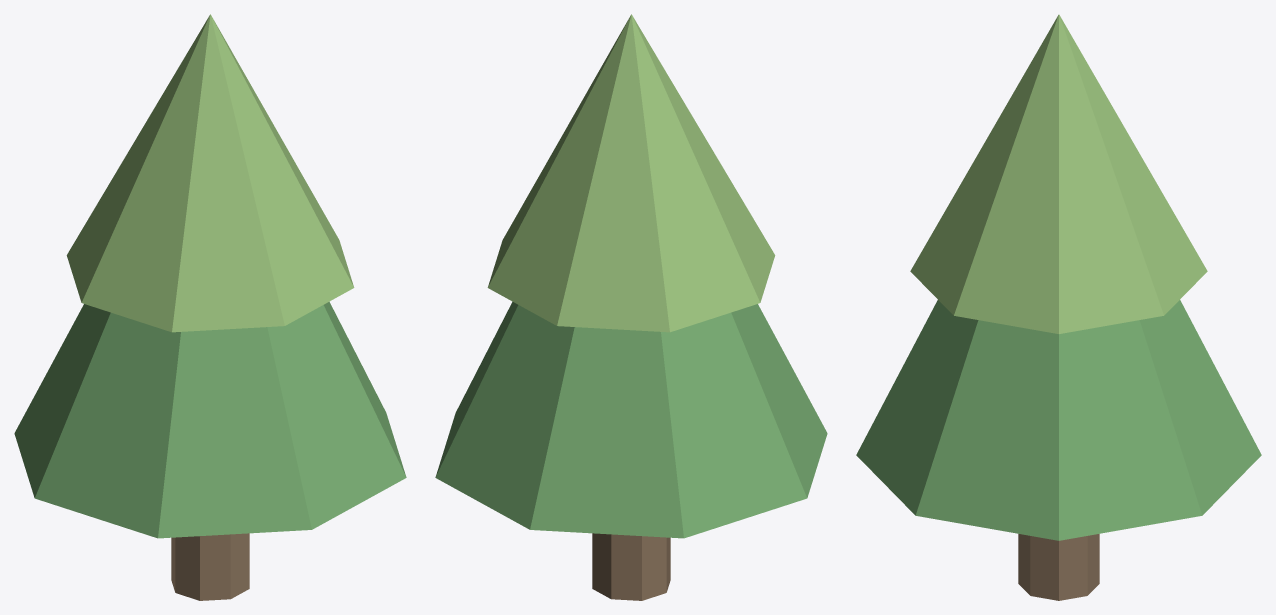
The model's file is Tree.fbx.
The picture shows the model from 3 angles, left to right: view 1: azimuth 30°, elevation 25°; view 2: azimuth 150°, elevation 25°; view 3: azimuth 270°, elevation 25°; orthographic projection.
Visible parts, largest first — view 1: Leaf0, Leaf1, Trunk; view 2: Leaf0, Leaf1, Trunk; view 3: Leaf0, Leaf1, Trunk.
Part boxes in pixels (bbox=[...]): Leaf0: bbox=[14, 301, 406, 538]; Leaf1: bbox=[66, 14, 354, 332]; Trunk: bbox=[171, 533, 249, 600]; Leaf0: bbox=[435, 301, 827, 538]; Leaf1: bbox=[487, 14, 775, 332]; Trunk: bbox=[592, 533, 670, 600]; Leaf0: bbox=[856, 300, 1261, 540]; Leaf1: bbox=[910, 14, 1207, 333]; Trunk: bbox=[1018, 534, 1099, 600].
Size of the model in its own units: 0.6 by 0.93 by 0.6.
